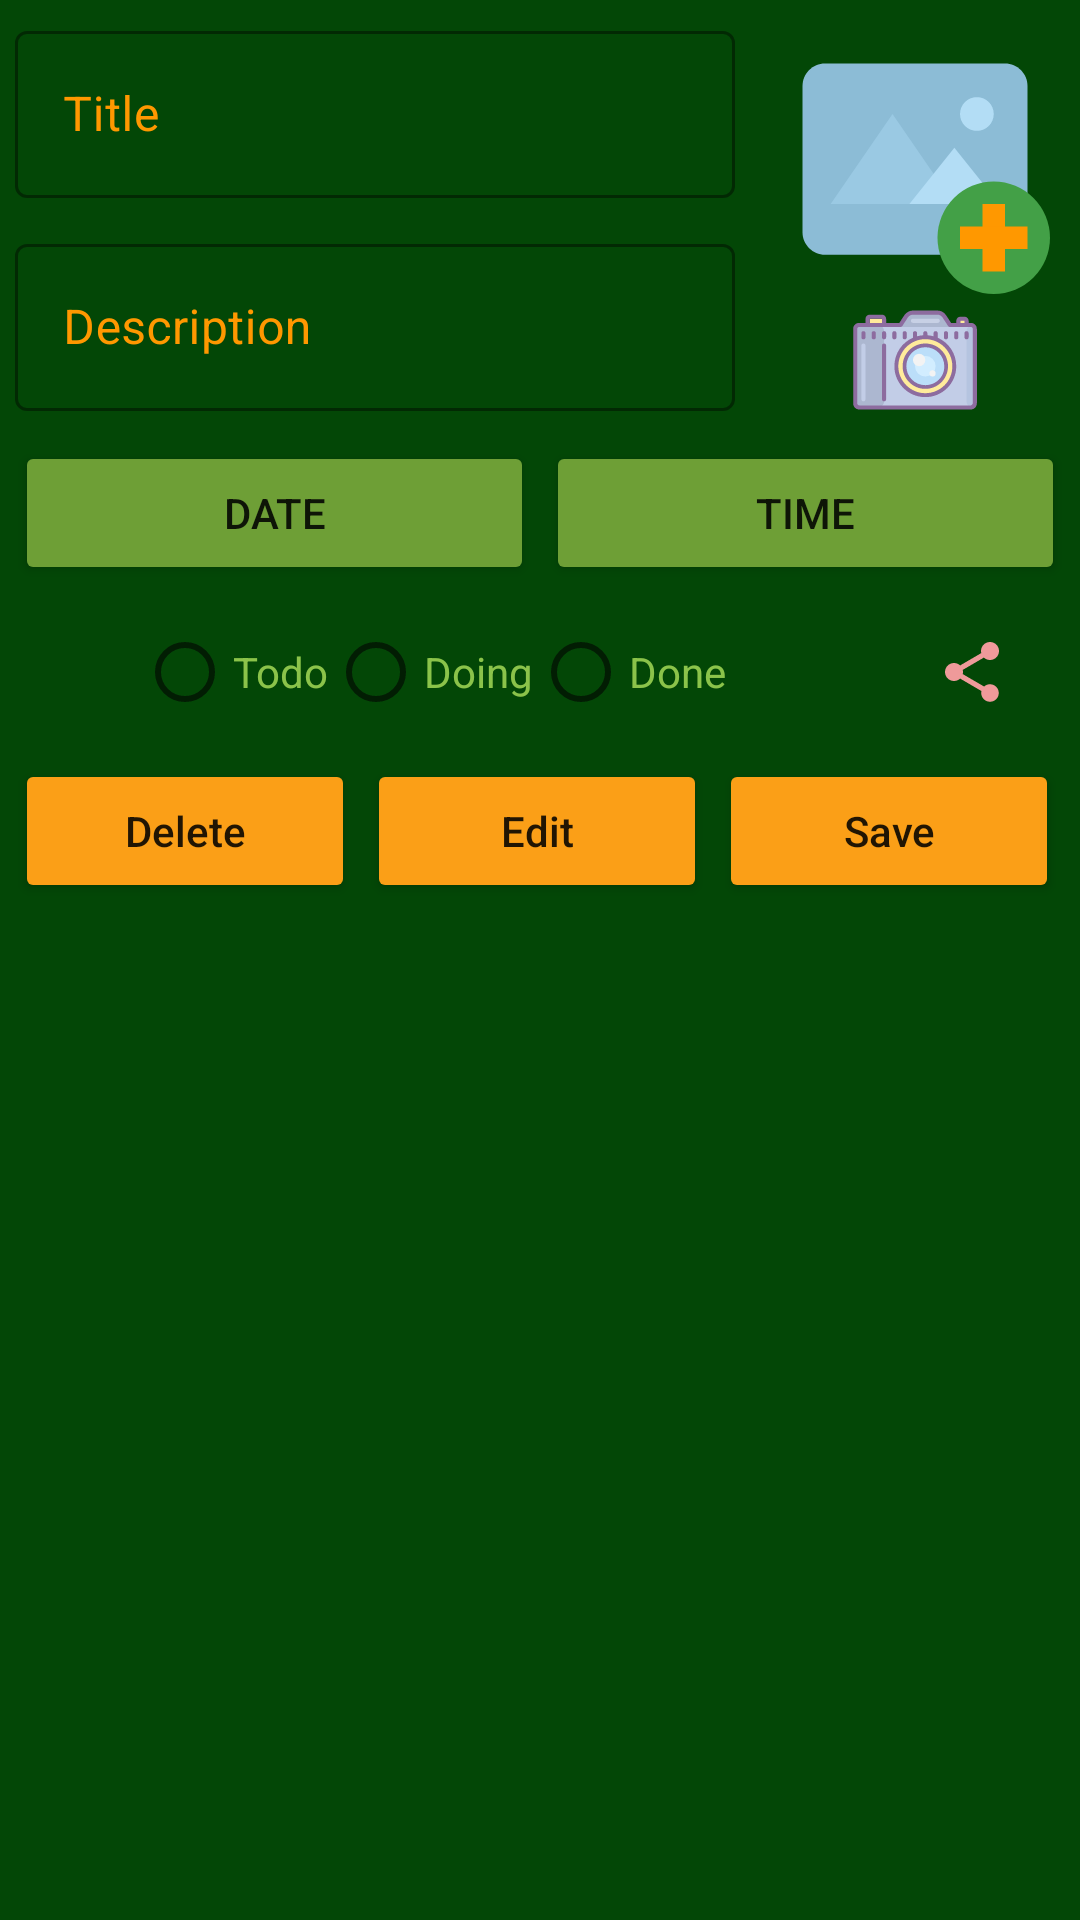

Named icons in this screenshot (1080x1920) and their bounding boxes, (x1=x1, y1=y1, x2=x2, y2=y2):
add: (x1=802, y1=63, x2=1050, y2=294)
camera: (x1=853, y1=310, x2=977, y2=410)
share: (x1=945, y1=642, x2=999, y2=702)
